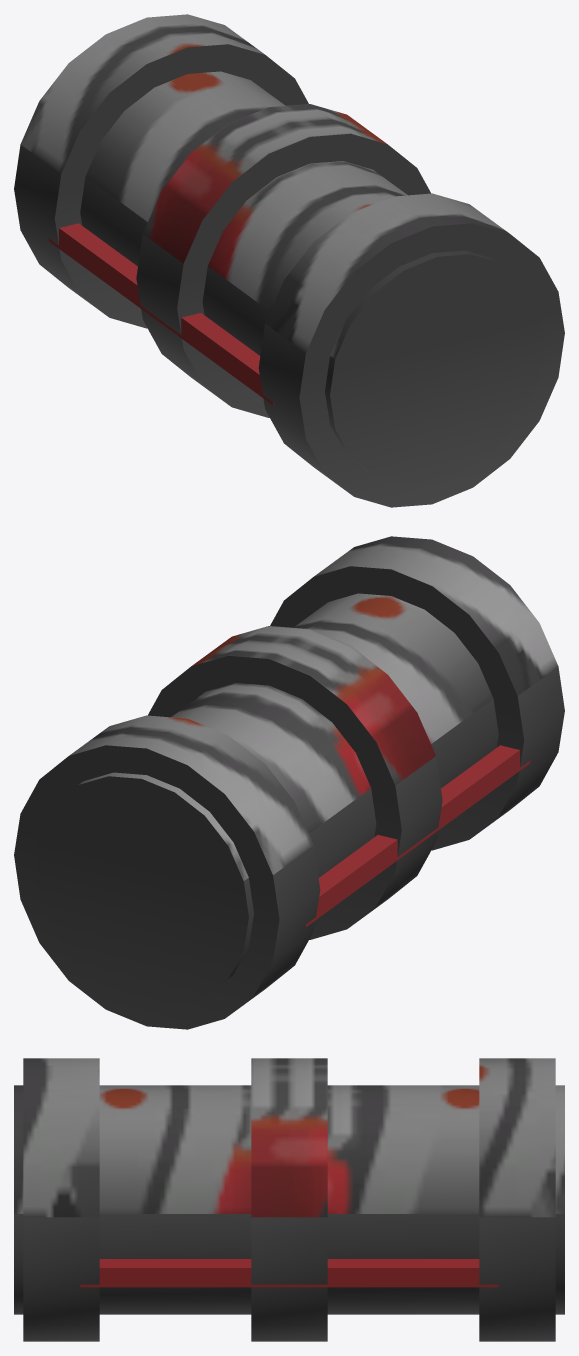
File: Building_Hemopump.obj
3 renders of one model, top to bottom at view 1: azimuth 30°, elevation 25°; view 2: azimuth 150°, elevation 25°; view 3: azimuth 270°, elevation 25°, orthographic. The views are drawn at different scales.
Parts seen in each view (by area): view 1: Body; view 2: Body; view 3: Body.
Boxes of the visible parts, x1,y1,x2,y2 form: Body: [14, 14, 564, 507]; Body: [14, 536, 564, 1029]; Body: [14, 1058, 564, 1341].
Bounding box in the file's own units: 0.94 × 0.94 × 1.81.
1 material, 1 textured.
